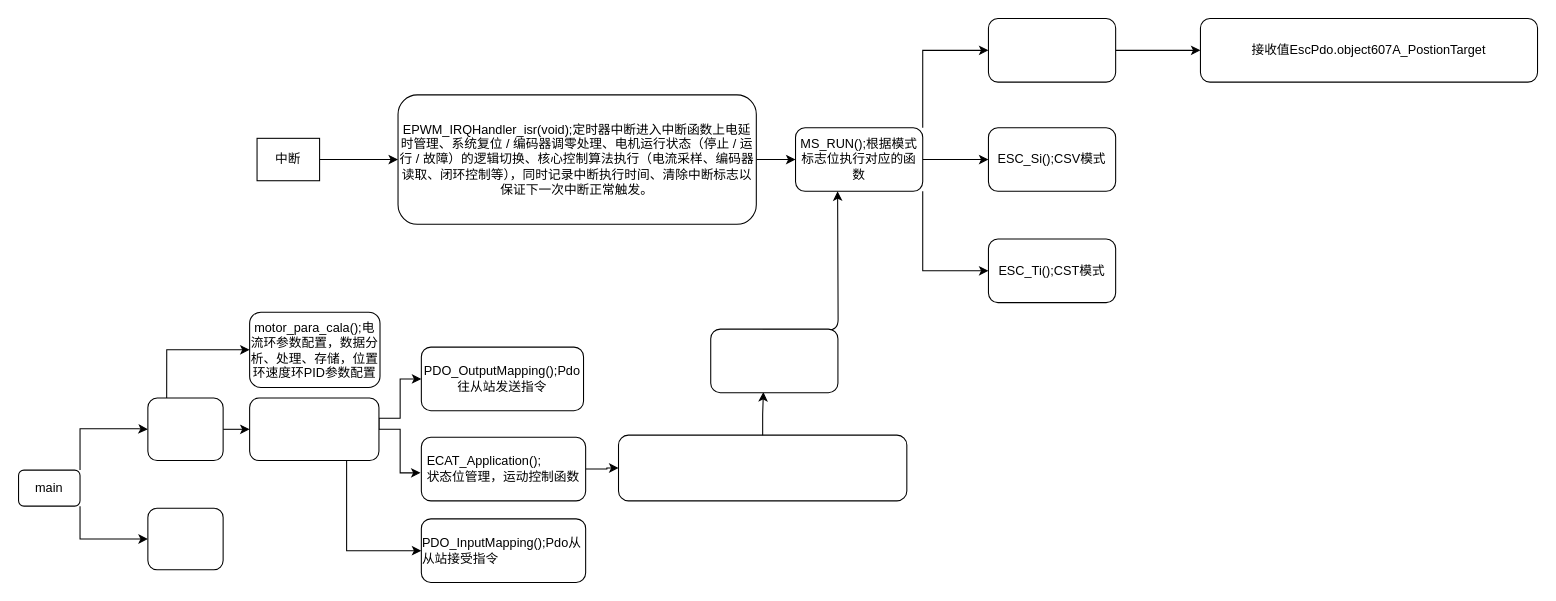
This 1556x601 diagram has some shape labels left out. The box of each missing label's shape, as (x1, y1, x2, y2) in pixels:
CIA402_DummyMotionControl(pCiA402Axis);运动控制函数，根据状态字和模式字设置伺服模式标志位，并初始化值和传递值: (617, 434, 907, 501)
ESC_Pt();CSP模式: (987, 17, 1116, 82)
for主循环: (147, 397, 223, 461)
InitSysCtil();系统硬件初始化: (147, 507, 223, 570)
MainLoop();EtherCat主循环: (249, 397, 379, 461)
标志位更新: (710, 328, 838, 393)
